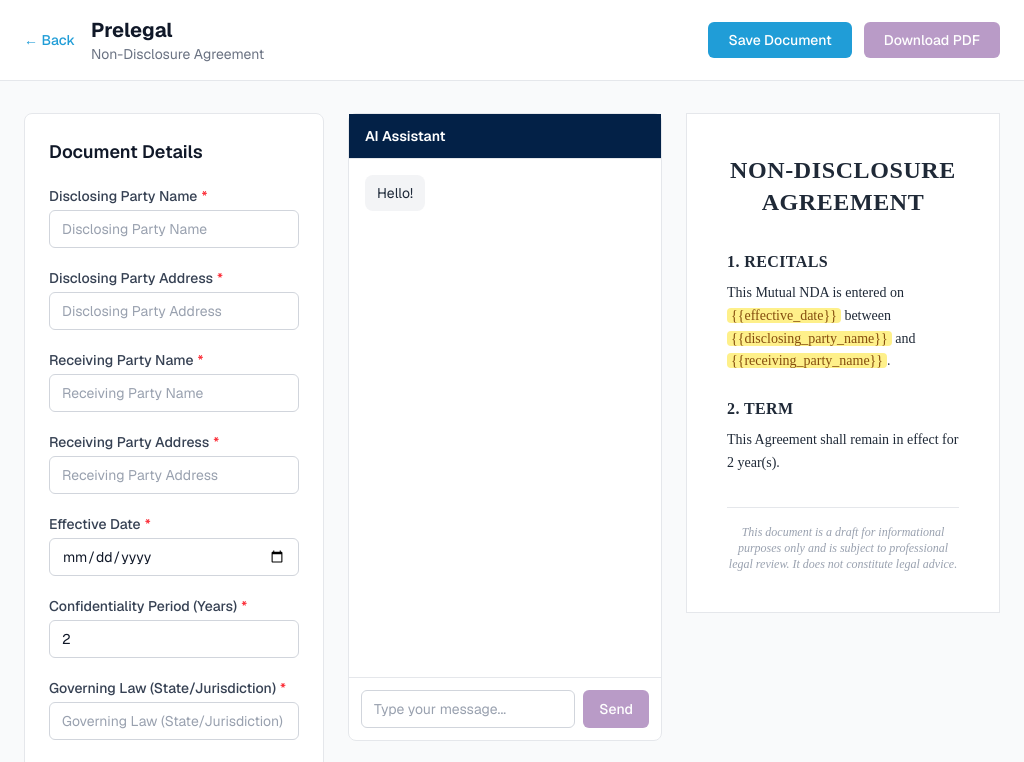
DocumentPage › shows Saving... state during save
Click the button "Save Document". click: (780,40)
box: [708,22,852,58]
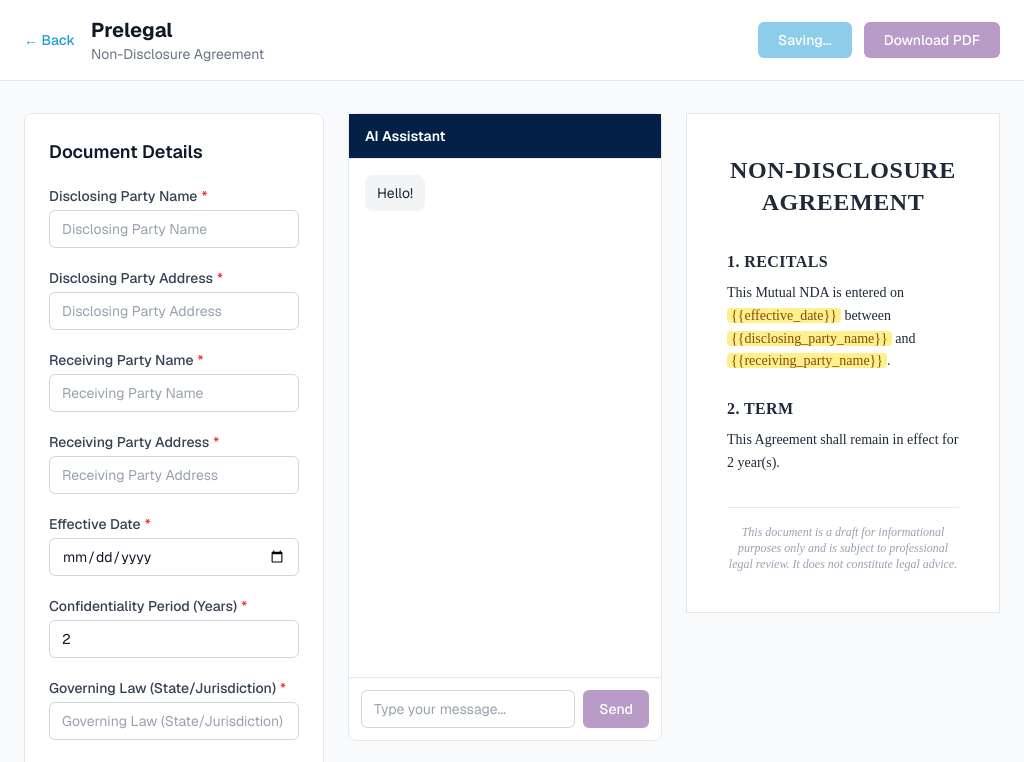
Expected: the button "Saving..." is disabled, [758,22,852,58]
